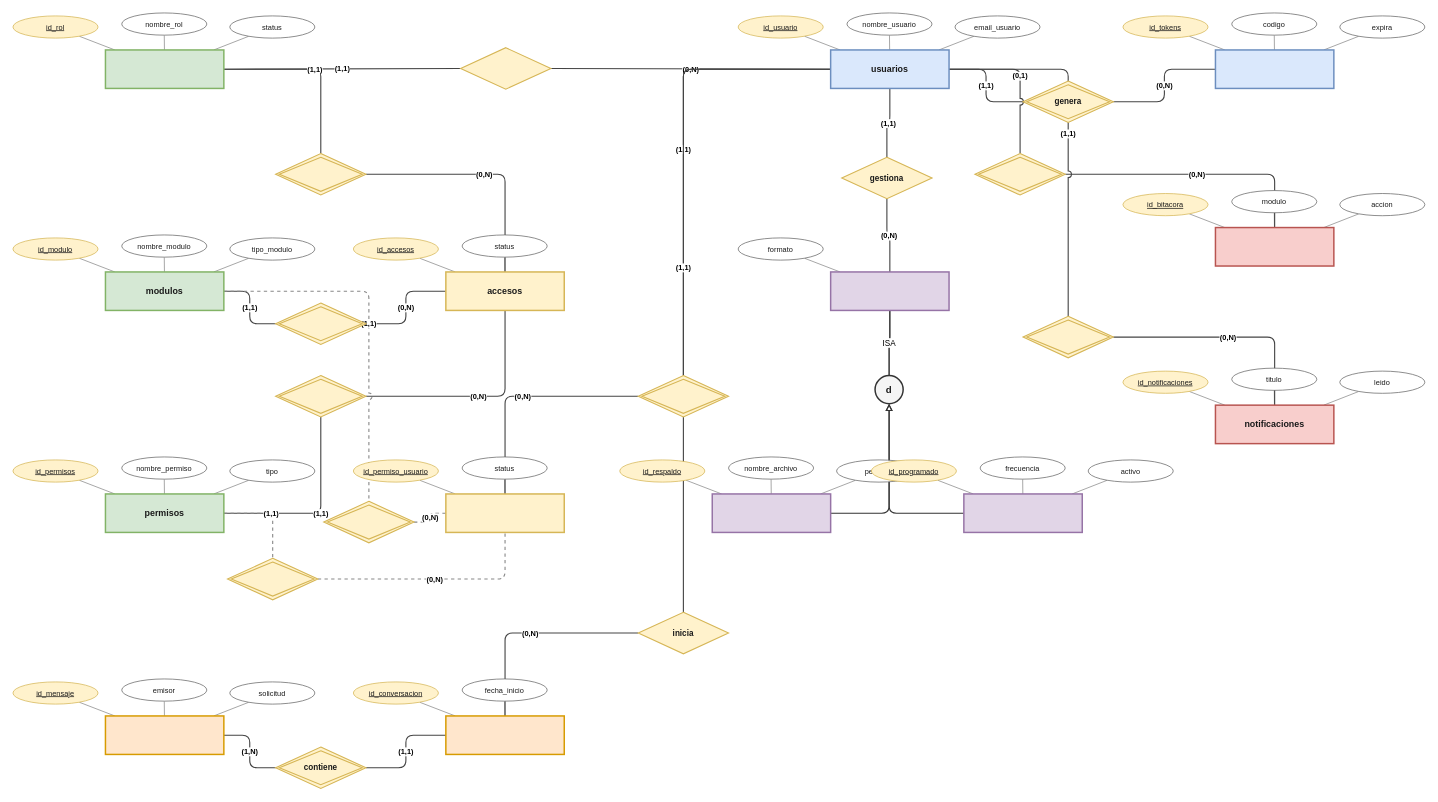
This 1438x802 diagram has some shape labels left out. The shapes that lost their labels are listed below. From the top down, each one's box as (x1, y1, x2, y2) in pixels, then its label:
(104, 49, 224, 89): roles
(460, 47, 551, 89): tiene
(1214, 49, 1334, 89): tokens
(275, 153, 366, 195): asigna
(974, 153, 1065, 195): registra
(1214, 226, 1334, 266): bitacoras
(830, 271, 949, 311): Respaldo_Sistema
(275, 302, 366, 345): habilita
(1022, 315, 1114, 358): recibe
(275, 375, 366, 417): otorga
(637, 375, 729, 417): posee
(323, 500, 414, 543): aplica a
(445, 493, 565, 533): permisos_usuario
(711, 493, 831, 533): respaldos
(963, 493, 1083, 533): respaldo_programado
(227, 557, 318, 600): concede
(104, 715, 224, 755): mensajes_ia
(445, 715, 565, 755): conversaciones_ia
